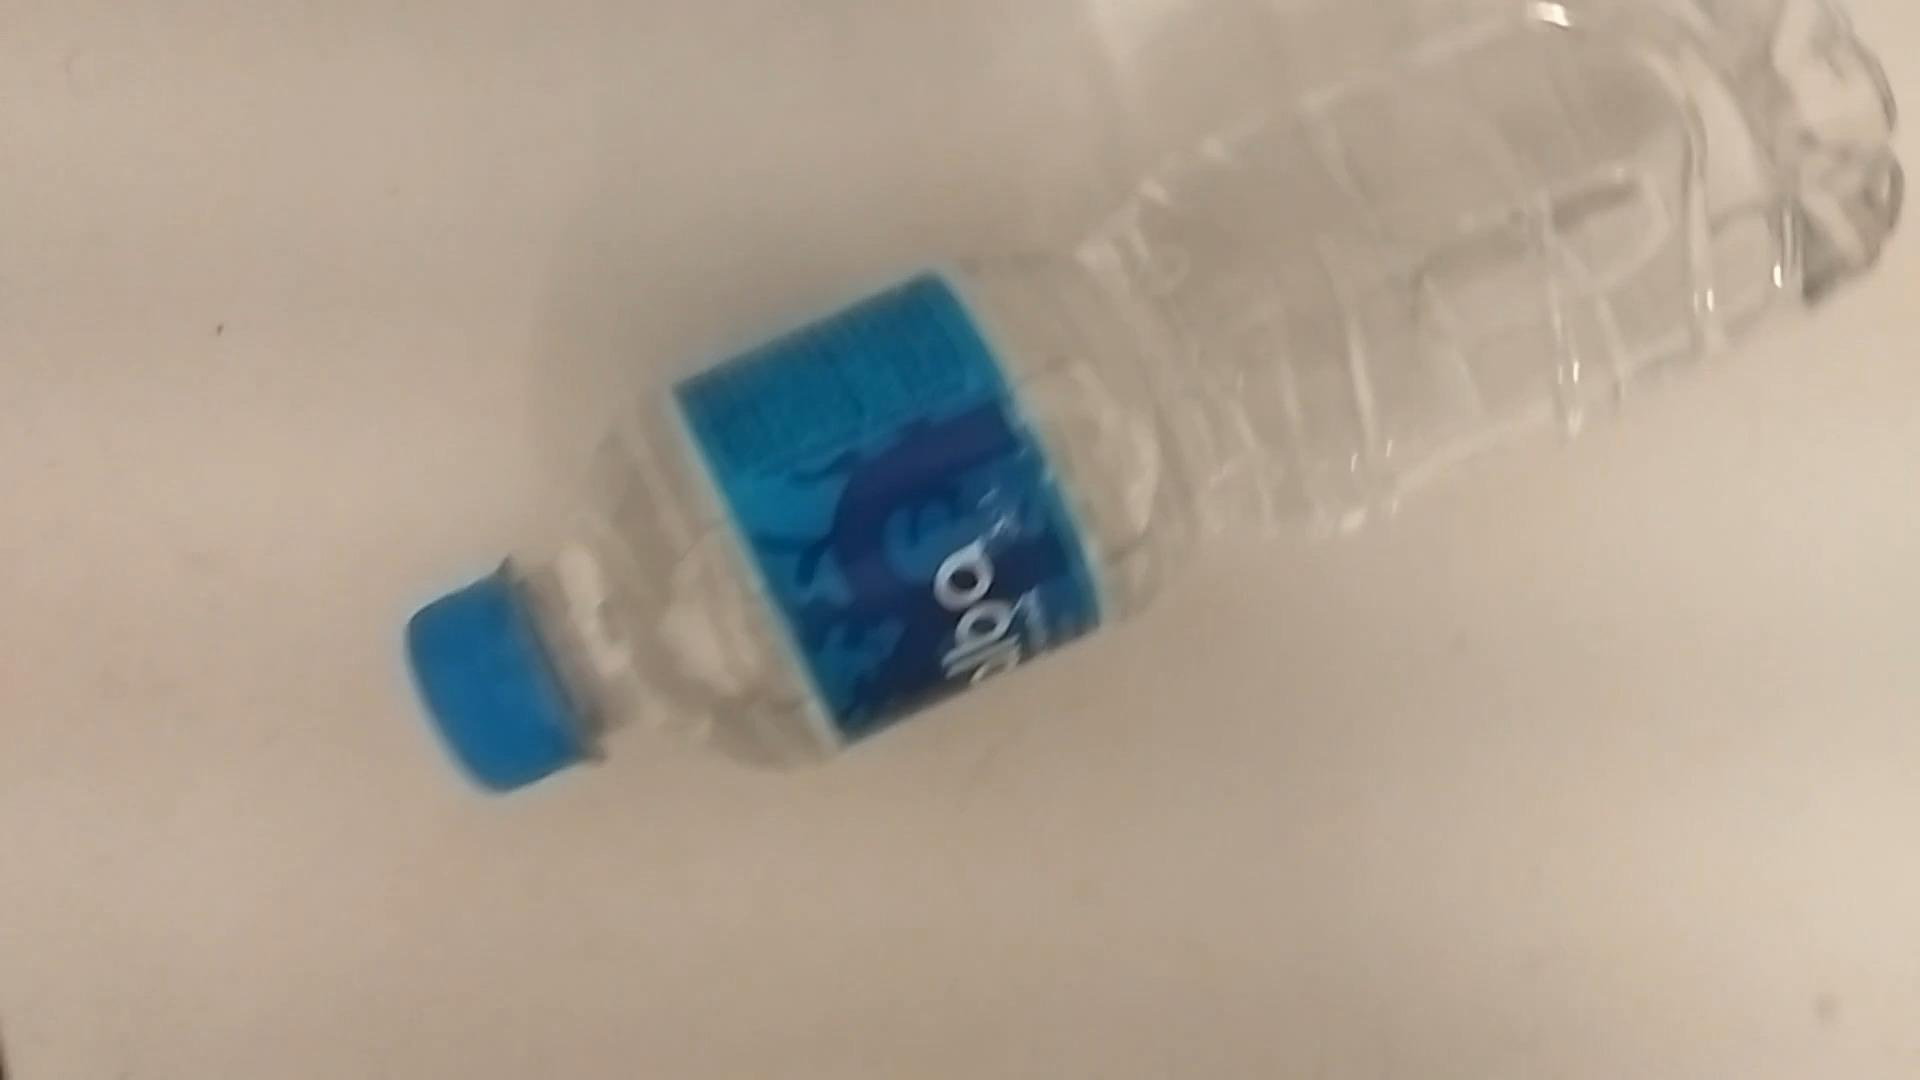agua: (410, 13, 1887, 807)
